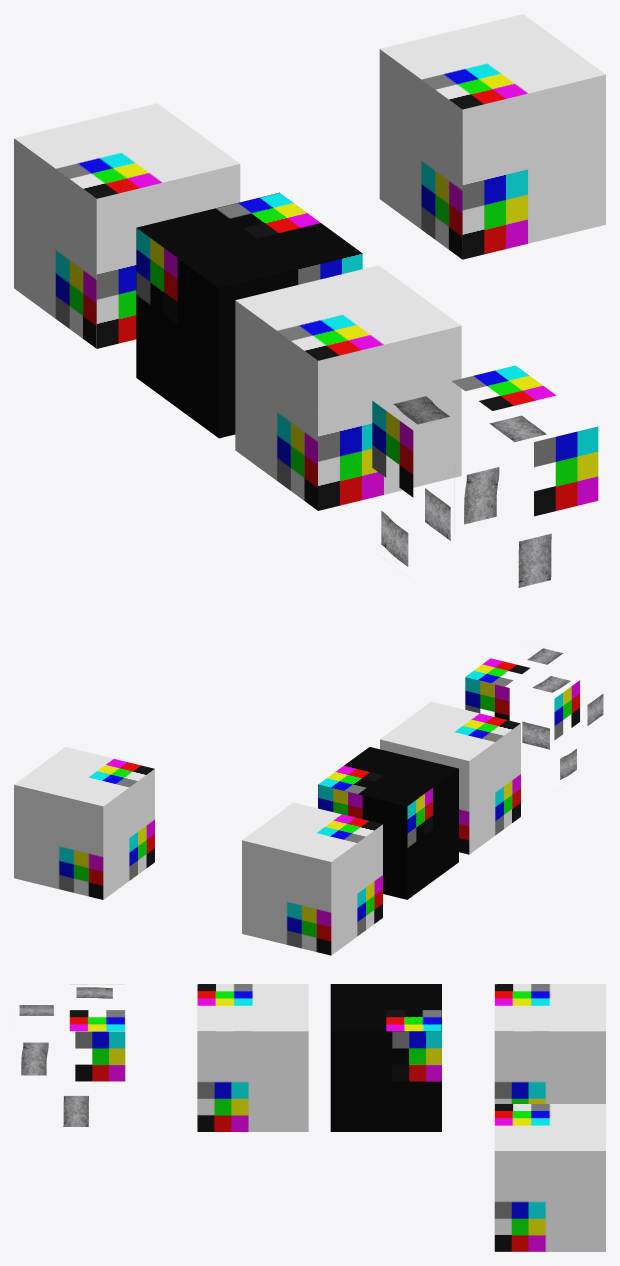
File: usdz.glb
The picture shows the model from 3 angles, top to bottom: view 1: azimuth 30°, elevation 25°; view 2: azimuth 150°, elevation 25°; view 3: azimuth 270°, elevation 25°; orthographic projection. The views are drawn at different scales.
Visible parts, largest first — view 1: Cube.004, Cube, Cube.003, Cube.001, Cube.002; view 2: Cube.003, Cube.004, Cube.001, Cube, Cube.002; view 3: Cube, Cube.001, Cube.004, Cube.003, Cube.002.
Boxes of the visible parts, x1=… form: Cube.004: x1=379, y1=14, x2=605, y2=259; Cube: x1=235, y1=265, x2=461, y2=510; Cube.003: x1=14, y1=103, x2=240, y2=348; Cube.001: x1=136, y1=192, x2=362, y2=438; Cube.002: x1=372, y1=365, x2=598, y2=587; Cube.003: x1=242, y1=802, x2=382, y2=955; Cube.004: x1=14, y1=747, x2=154, y2=899; Cube.001: x1=318, y1=747, x2=458, y2=899; Cube: x1=380, y1=701, x2=520, y2=854; Cube.002: x1=465, y1=648, x2=603, y2=779; Cube: x1=197, y1=984, x2=308, y2=1131; Cube.001: x1=330, y1=984, x2=441, y2=1131; Cube.004: x1=494, y1=1104, x2=605, y2=1251; Cube.003: x1=494, y1=984, x2=605, y2=1103; Cube.002: x1=19, y1=987, x2=125, y2=1126.
Bounding box in the file's own units: 7.1 × 2 × 10.64.
Materials: 5 (5 with a texture image).
